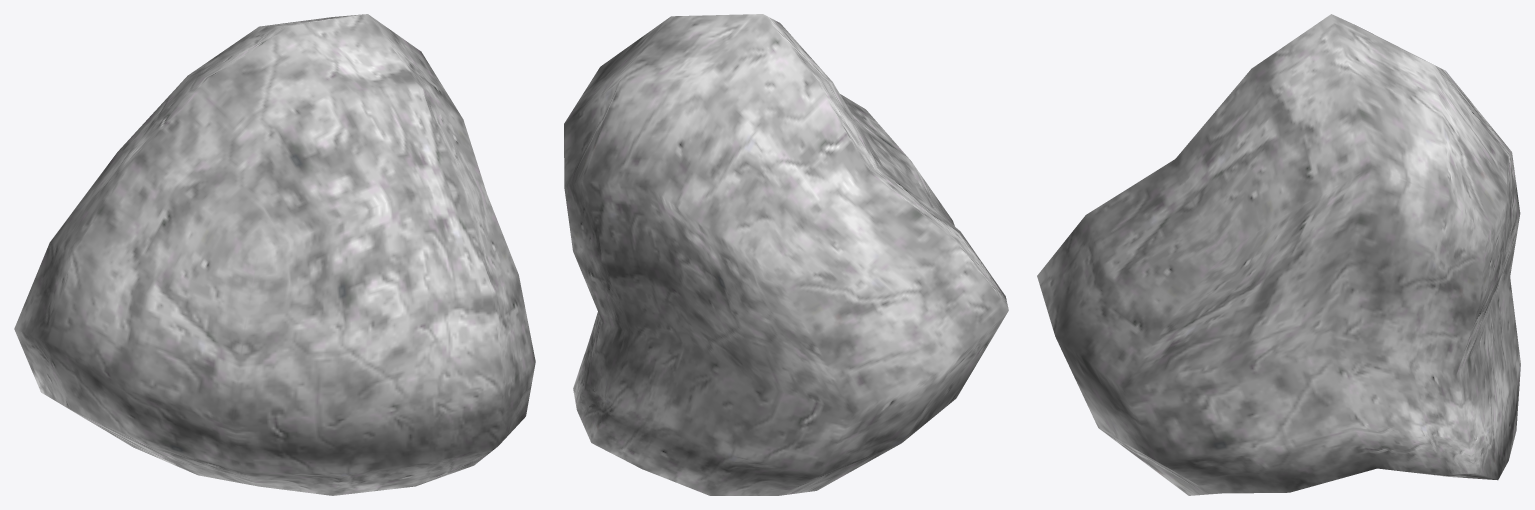
The model's file is INST_TROLLHOLE_ROCKC.fbx.
The picture shows the model from 3 angles, left to right: view 1: azimuth 30°, elevation 25°; view 2: azimuth 150°, elevation 25°; view 3: azimuth 270°, elevation 25°; orthographic projection. The views are drawn at different scales.
Parts seen in each view (by area): view 1: INST_TROLLHOLE_ROCKC; view 2: INST_TROLLHOLE_ROCKC; view 3: INST_TROLLHOLE_ROCKC.
Boxes of the visible parts, <box> form: INST_TROLLHOLE_ROCKC: <box>14,14,535,495</box>; INST_TROLLHOLE_ROCKC: <box>564,14,1008,495</box>; INST_TROLLHOLE_ROCKC: <box>1037,14,1520,495</box>.
Size of the model in its own units: 21129 by 21129 by 21129.
1 material, 1 textured.
